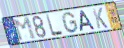8: (32, 15, 47, 40)
A: (79, 9, 96, 33)
G: (61, 11, 79, 34)
K: (91, 7, 109, 30)
L: (45, 14, 65, 38)
M: (11, 16, 38, 42)
